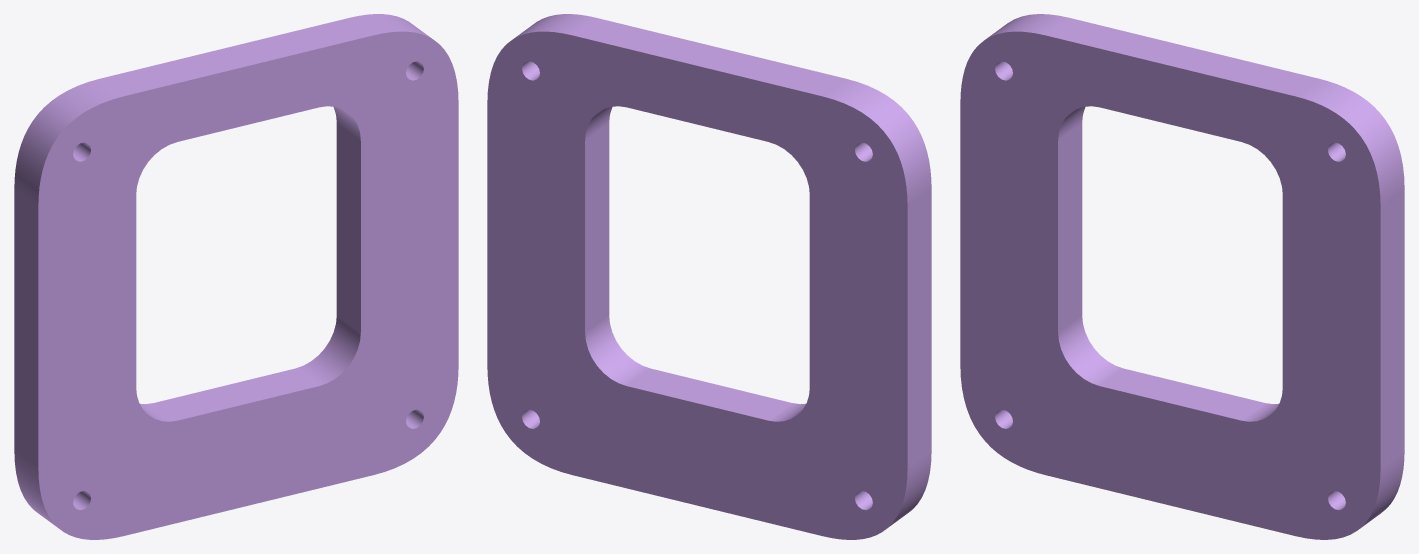
Rendered from Main_Soporte.001.dae.
3 views of the same model, side by side, from view 1: azimuth 30°, elevation 25°; view 2: azimuth 150°, elevation 25°; view 3: azimuth 330°, elevation 25° (orthographic).
Visible parts, largest first — view 1: Main_Soporte.000; view 2: Main_Soporte.000; view 3: Main_Soporte.000.
Boxes of the visible parts, x1,y1,x2,y2 form: Main_Soporte.000: [14, 14, 458, 539]; Main_Soporte.000: [487, 14, 931, 539]; Main_Soporte.000: [960, 14, 1404, 539].
Size of the model in its own units: 0.101 by 0.01 by 0.101.
